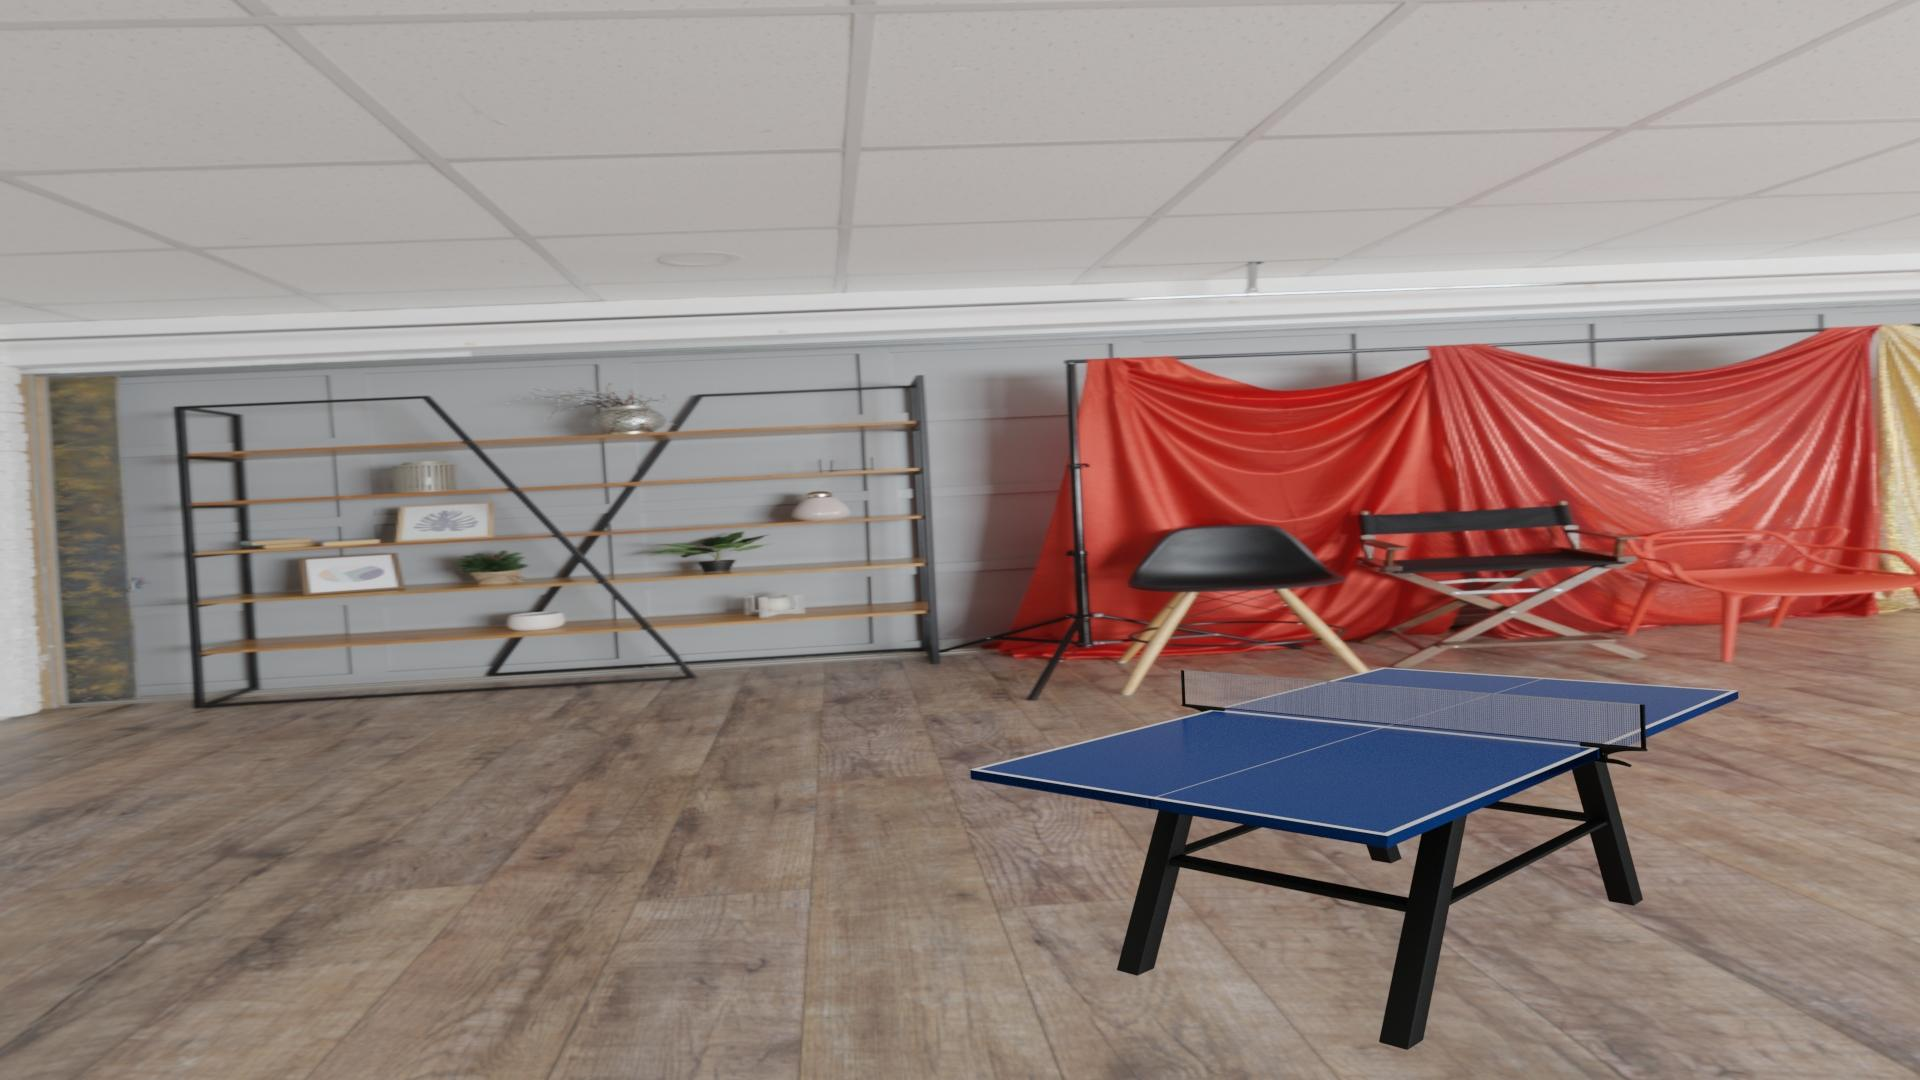table: (978, 669, 1731, 833)
